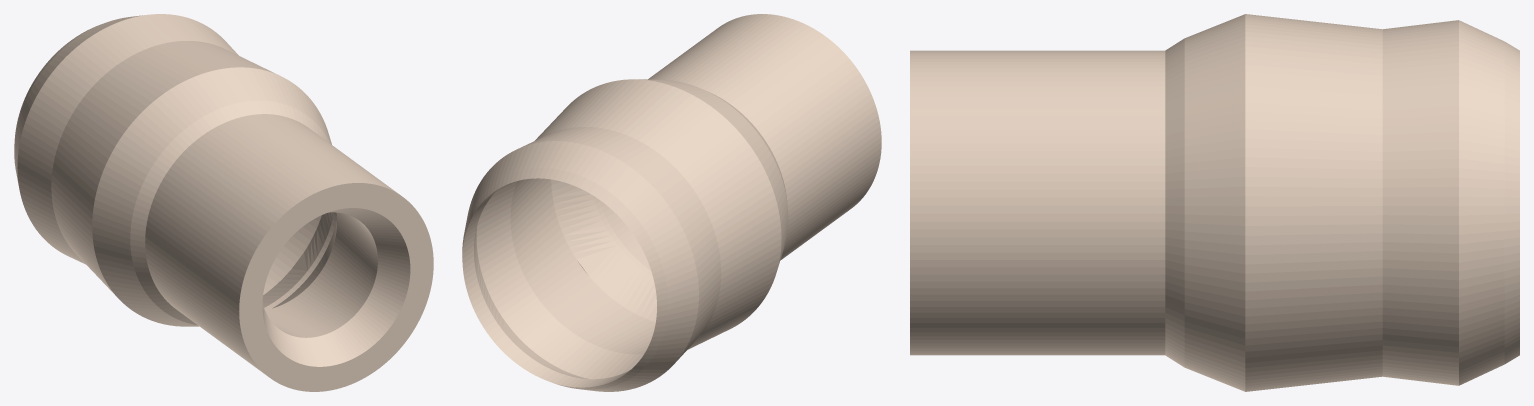
File: elegant-vase.glb
The picture shows the model from 3 angles, left to right: view 1: azimuth 30°, elevation 25°; view 2: azimuth 150°, elevation 25°; view 3: azimuth 270°, elevation 25°; orthographic projection. The views are drawn at different scales.
Parts seen in each view (by area): view 1: Vase Profile; view 2: Vase Profile; view 3: Vase Profile.
Part boxes in pixels (x1=…): Vase Profile: x1=14, y1=14, x2=433, y2=391; Vase Profile: x1=462, y1=14, x2=881, y2=391; Vase Profile: x1=910, y1=14, x2=1519, y2=391.
Bounding box in the file's own units: 124 × 124 × 200.
